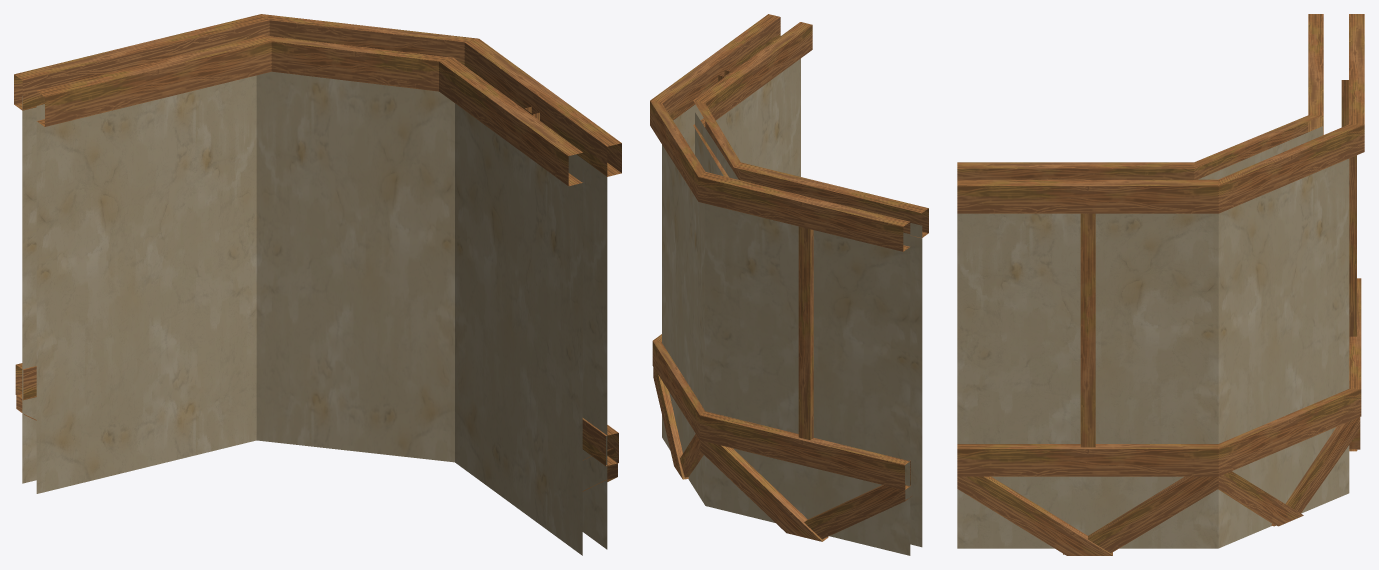
File: overhang_plaster_corner_front.gltf
3 renders of one model, left to right at view 1: azimuth 30°, elevation 25°; view 2: azimuth 150°, elevation 25°; view 3: azimuth 270°, elevation 25°, orthographic. The views are drawn at different scales.
Visible parts, largest first — view 1: Overhang_Plaster_Corner_Front; view 2: Overhang_Plaster_Corner_Front; view 3: Overhang_Plaster_Corner_Front.
Part boxes in pixels (bbox=[...]): Overhang_Plaster_Corner_Front: bbox=[14, 14, 621, 555]; Overhang_Plaster_Corner_Front: bbox=[650, 14, 928, 555]; Overhang_Plaster_Corner_Front: bbox=[957, 14, 1364, 555].
Bounding box in the file's own units: 3.12 × 3.14 × 3.12.
Materials: 2 (2 with a texture image).
